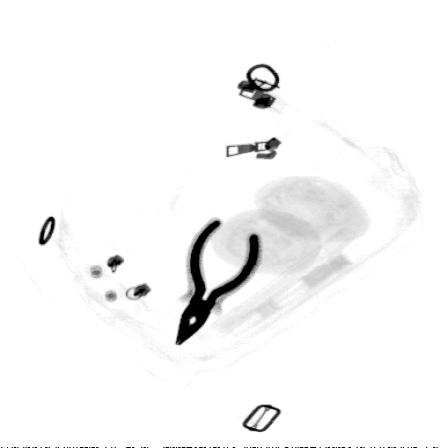Pliers: (175, 216, 265, 347)
